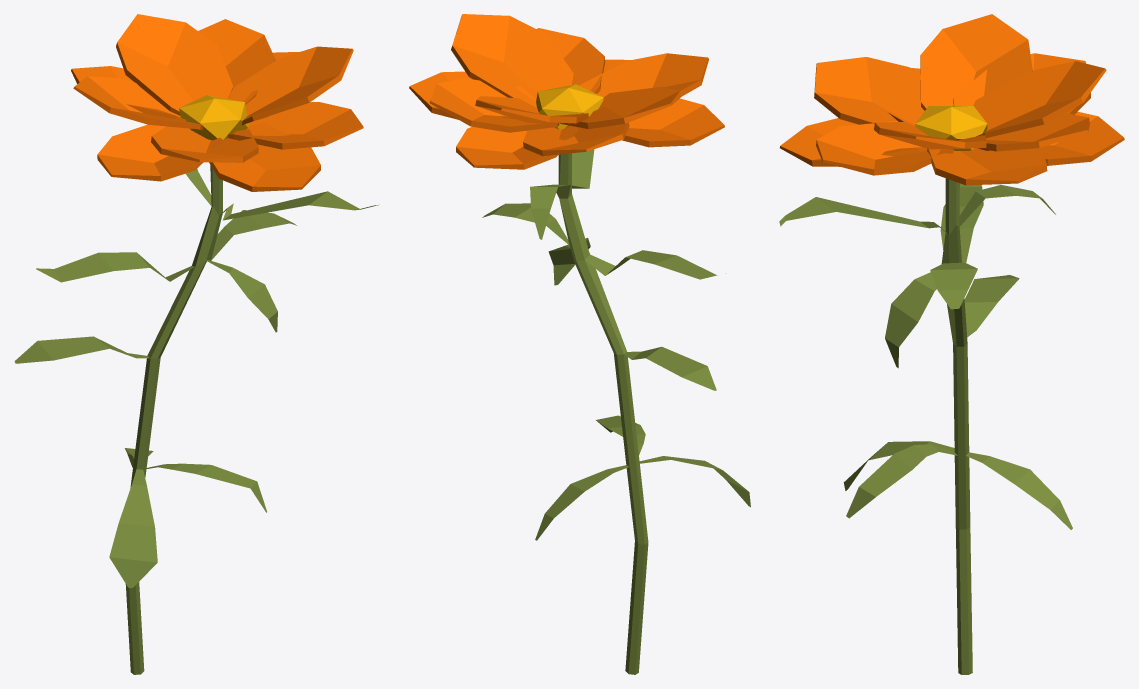
File: calendula_flower.glb
The picture shows the model from 3 angles, left to right: view 1: azimuth 30°, elevation 25°; view 2: azimuth 150°, elevation 25°; view 3: azimuth 270°, elevation 25°; orthographic projection. The views are drawn at different scales.
Parts seen in each view (by area): view 1: calendula-flower; view 2: calendula-flower; view 3: calendula-flower.
Boxes of the visible parts, x1,y1,x2,y2 form: calendula-flower: [14, 14, 379, 674]; calendula-flower: [409, 14, 750, 674]; calendula-flower: [779, 14, 1124, 674].
Size of the model in its own units: 0.6344 by 1.2 by 0.5859.
